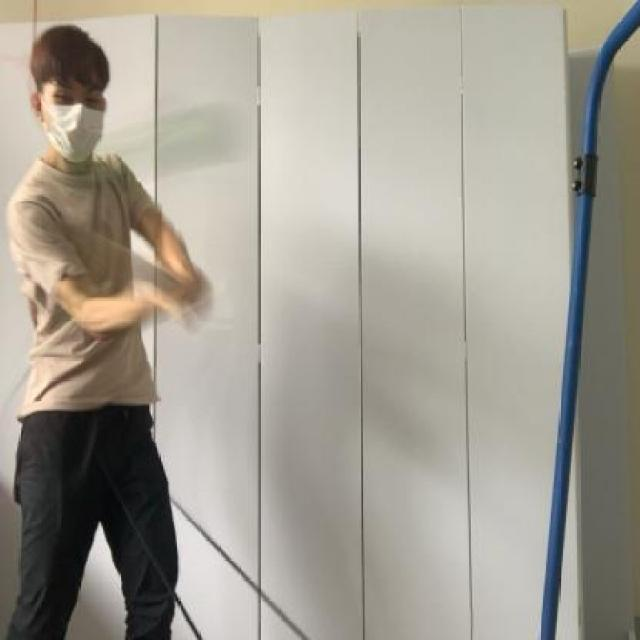baseball: (78, 99, 253, 204)
